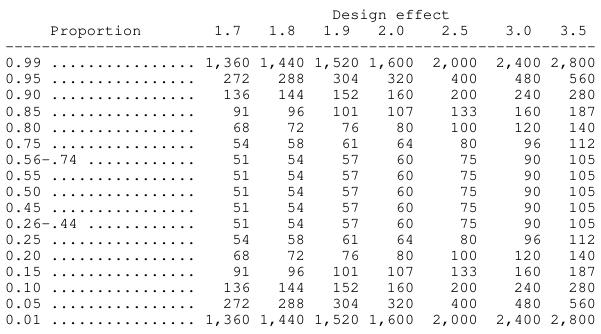table: (3, 4, 594, 328)
table column: (3, 4, 172, 328), (172, 4, 253, 328), (422, 4, 485, 328), (363, 4, 422, 328), (485, 4, 544, 328), (253, 4, 308, 328), (308, 4, 363, 328), (544, 4, 594, 328)
table column header: (3, 4, 594, 45)
table row: (3, 21, 594, 45), (3, 45, 594, 69), (3, 310, 594, 328), (3, 4, 594, 21), (3, 133, 594, 150), (3, 69, 594, 85), (3, 85, 594, 101), (3, 101, 594, 117), (3, 117, 594, 133), (3, 150, 594, 166), (3, 166, 594, 182), (3, 182, 594, 198), (3, 198, 594, 214), (3, 214, 594, 230), (3, 230, 594, 246), (3, 246, 594, 262), (3, 262, 594, 278), (3, 278, 594, 294), (3, 294, 594, 310)
table spanning cell: (172, 4, 594, 21), (3, 4, 172, 45)
